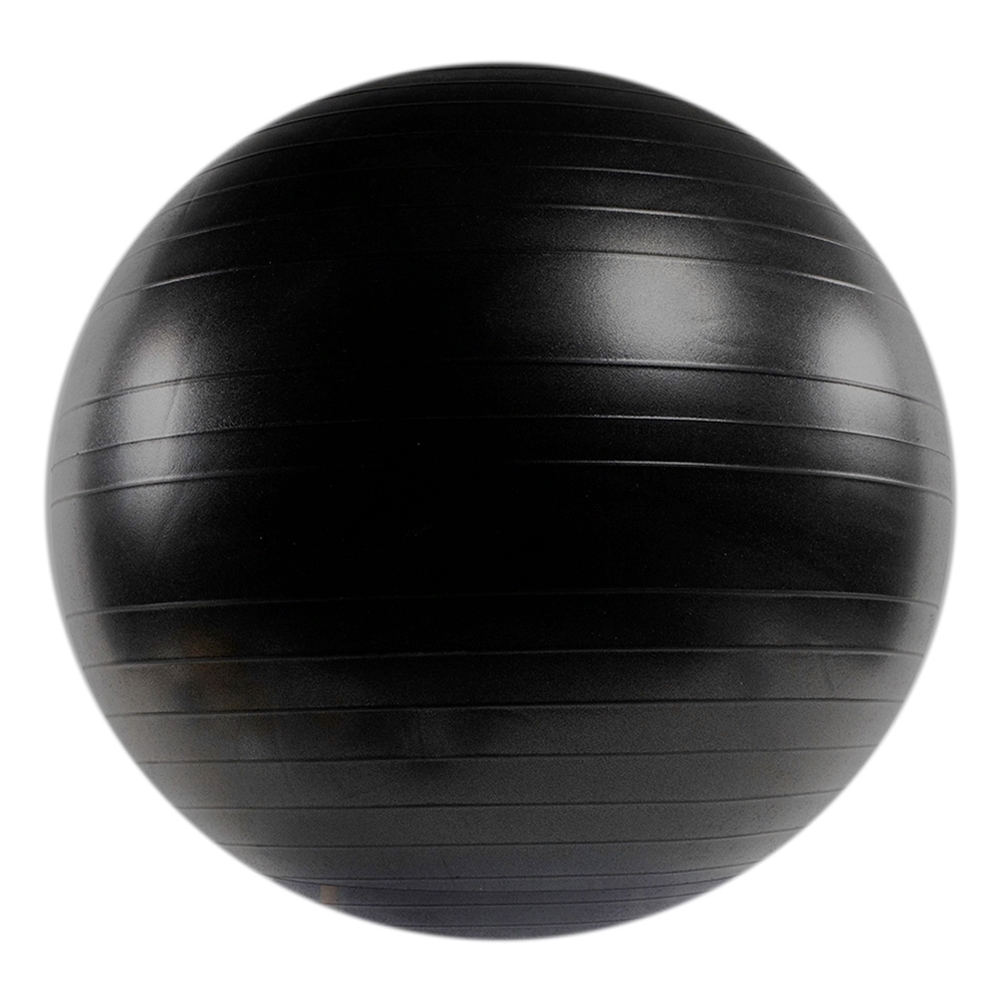sphere: (47, 64, 956, 941)
